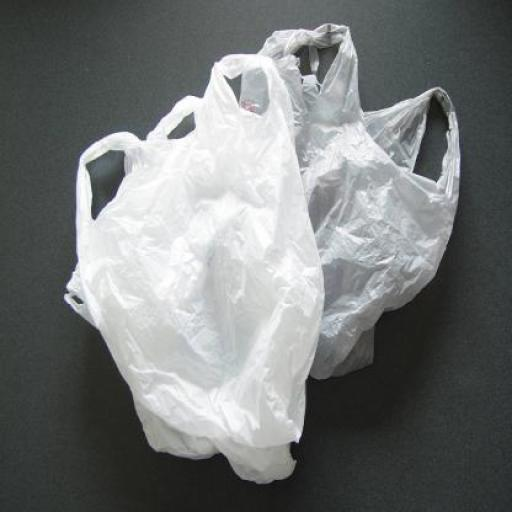plastic bag: (70, 45, 326, 501), (232, 20, 466, 396)
